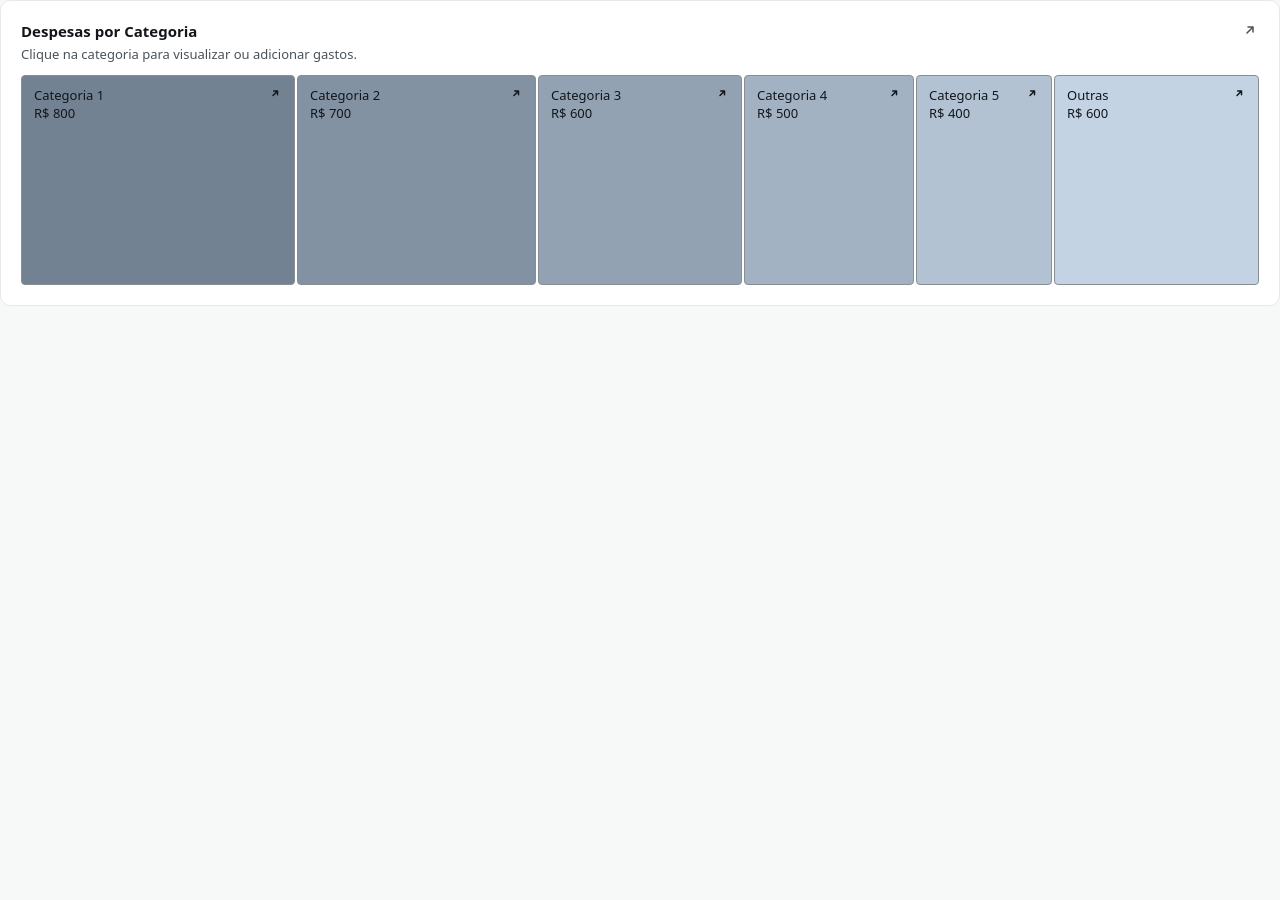
Test: Despesas por Categoria › files_design/01 §13 — clicar em "Outras" abre o detalhe do que ela soma, como qualquer outro bloco
Click the button with aria-label "Outras, " at [1156, 180], box [1054,75,1259,285]
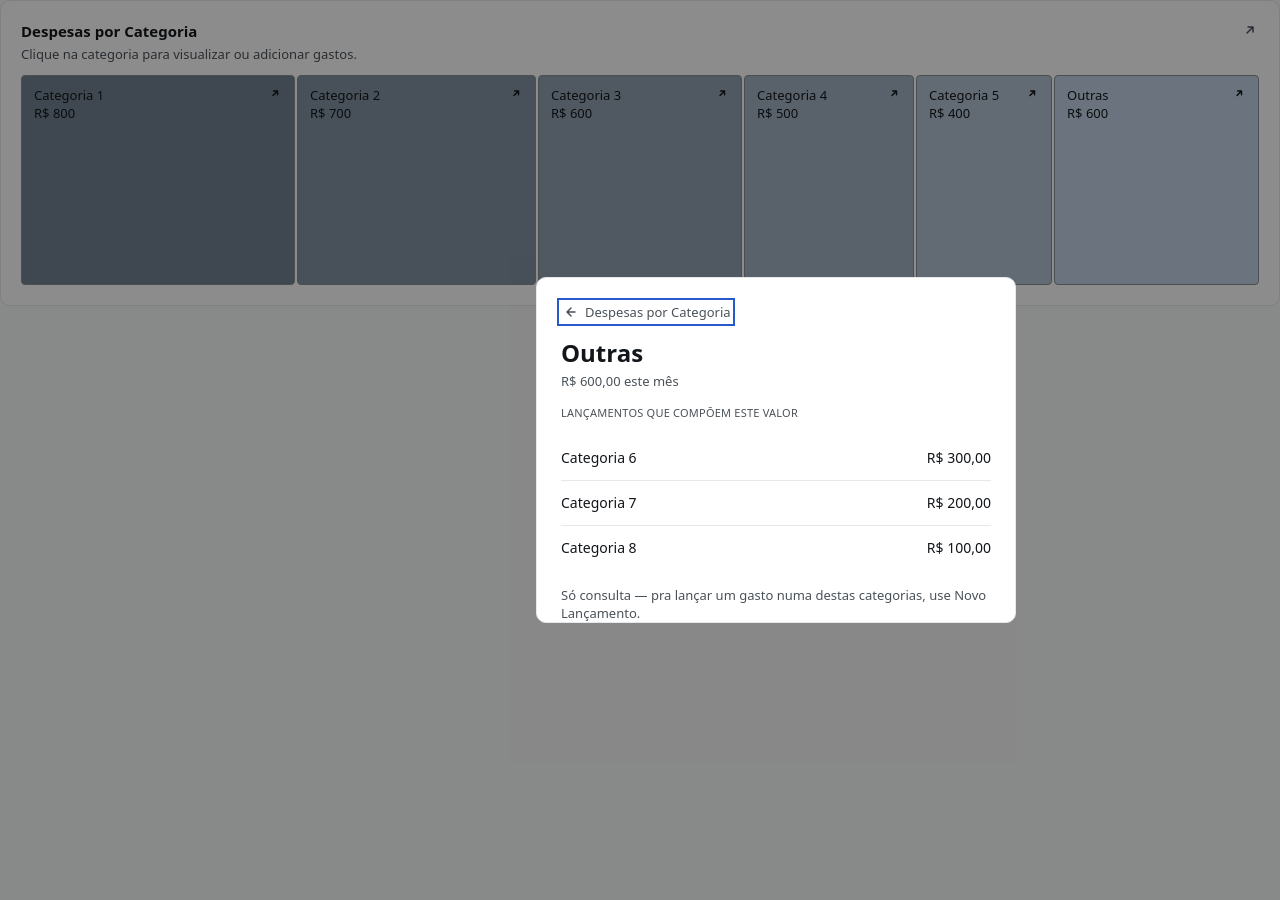
Now the text "Categoria 6" is shown, box [561,448,637,468]
Now the text "Categoria 8" is shown, box [561,538,637,558]
